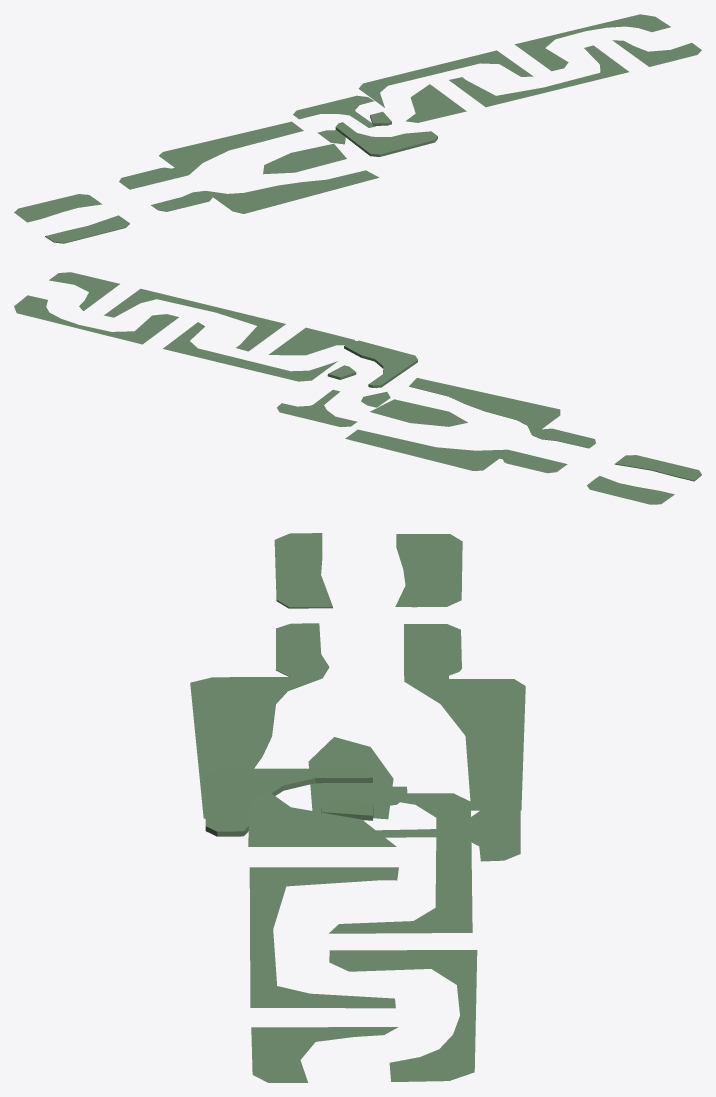
The model's file is grass_block_2.gltf.
3 views of the same model, one above another, from view 1: azimuth 30°, elevation 25°; view 2: azimuth 150°, elevation 25°; view 3: azimuth 270°, elevation 25° (orthographic). The views are drawn at different scales.
Visible parts, largest first — view 1: Shape 2 (×3), Shape 9 (×2), Shape, Shape 3 (×2), Shape 7, Shape 11, Shape 8, Shape 12; view 2: Shape 2 (×3), Shape 9 (×2), Shape, Shape 3 (×2), Shape 7, Shape 11, Shape 8, Shape 12; view 3: Shape 2 (×3), Shape, Shape 9 (×2), Shape 3 (×3), Shape 7, Shape 11, Shape 8, Shape 12, Shape 6.
Part boxes in pixels (x1,y1,x2,y2): Shape 2 (×3): (14,95,378,222); Shape 9 (×2): (263,45,628,174); Shape: (119,121,303,189); Shape 3 (×2): (45,122,437,243); Shape 7: (358,50,533,107); Shape 11: (514,14,670,71); Shape 8: (406,84,466,122); Shape 12: (612,40,701,66); Shape 2 (×3): (277,378,674,504); Shape 9 (×2): (104,288,467,426); Shape: (345,429,567,473); Shape 3 (×2): (344,340,701,481); Shape 7: (163,322,337,381); Shape 11: (14,295,178,344); Shape 8: (268,327,357,355); Shape 12: (49,272,119,310); Shape 2 (×3): (190,534,520,861); Shape: (404,624,525,810); Shape 9 (×2): (249,737,398,1008); Shape 3 (×3): (205,533,407,836); Shape 7: (329,793,472,933); Shape 11: (329,950,477,1081); Shape 8: (248,792,396,846); Shape 12: (251,1027,398,1082); Shape 6: (321,798,373,820).
Size of what is drawn, in the model's own units: 27.01 by 1.63 by 6.1.
